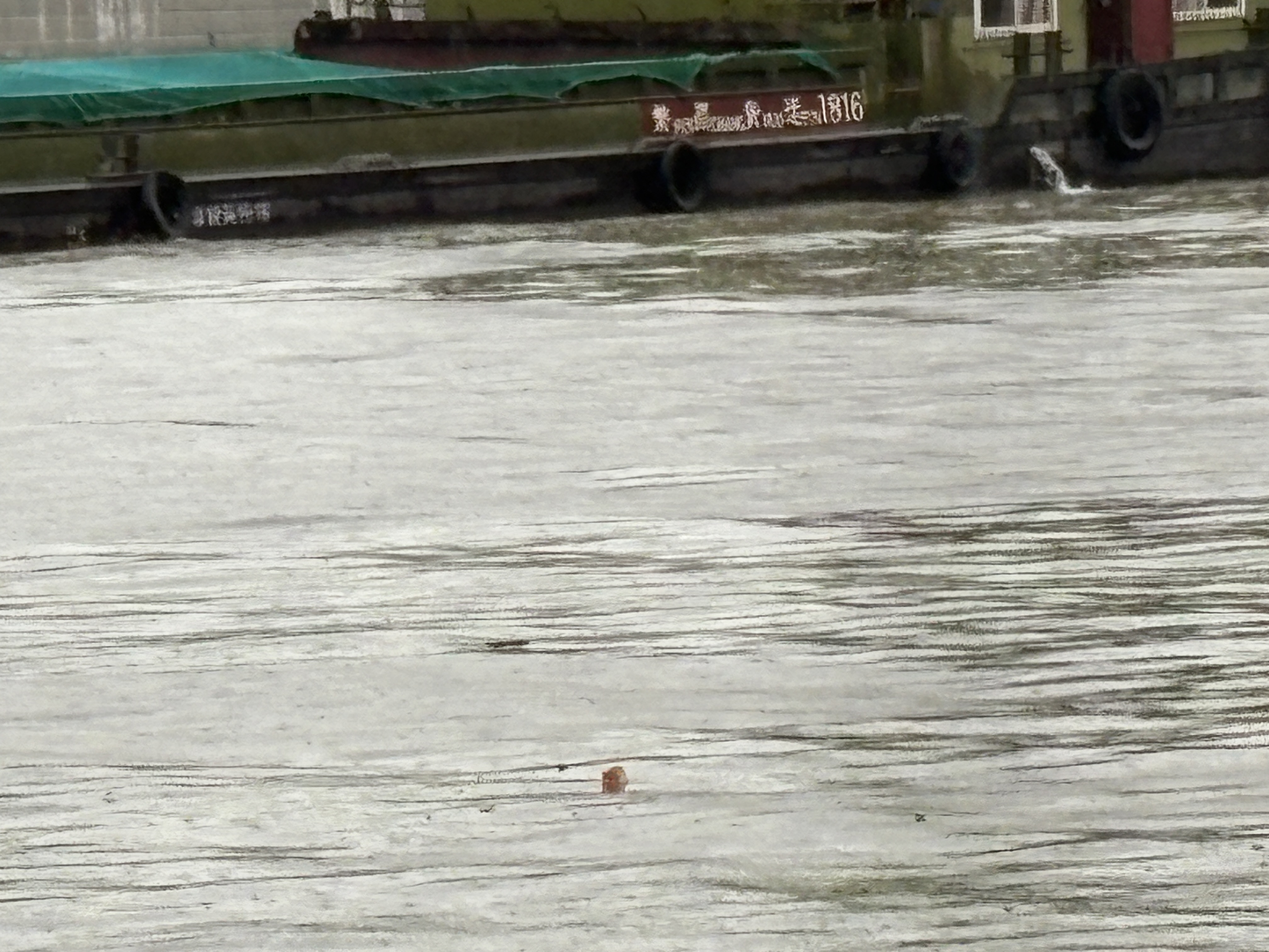Natural wastes: (483, 632, 534, 657)
Plastic wastes: (600, 765, 629, 792)
